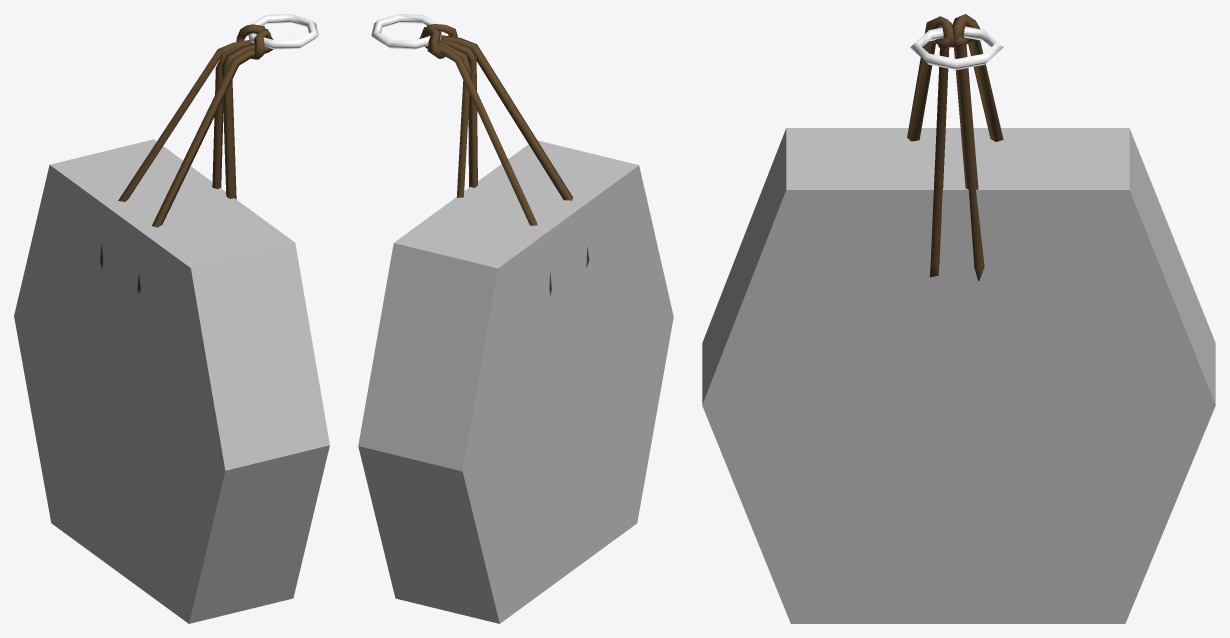
The model's file is SM_H_Props_Industrial_NavalBattle_S2_Wharf_09a_ATLAS.fbx.
3 renders of one model, left to right at view 1: azimuth 30°, elevation 25°; view 2: azimuth 150°, elevation 25°; view 3: azimuth 270°, elevation 25°, orthographic. The views are drawn at different scales.
Parts seen in each view (by area): view 1: SM_H_Props_Industrial_NavalBattle_S2_Wharf_09a_ATLAS_ConvexH, SM_H_Props_Industrial_NavalBattle_S2_Wharf_09a_ATLAS; view 2: SM_H_Props_Industrial_NavalBattle_S2_Wharf_09a_ATLAS_ConvexH, SM_H_Props_Industrial_NavalBattle_S2_Wharf_09a_ATLAS; view 3: SM_H_Props_Industrial_NavalBattle_S2_Wharf_09a_ATLAS_ConvexH, SM_H_Props_Industrial_NavalBattle_S2_Wharf_09a_ATLAS.
Boxes of the visible parts, x1=… form: SM_H_Props_Industrial_NavalBattle_S2_Wharf_09a_ATLAS_ConvexH: x1=14, y1=139, x2=329, y2=623; SM_H_Props_Industrial_NavalBattle_S2_Wharf_09a_ATLAS: x1=100, y1=14, x2=318, y2=293; SM_H_Props_Industrial_NavalBattle_S2_Wharf_09a_ATLAS_ConvexH: x1=358, y1=140, x2=673, y2=623; SM_H_Props_Industrial_NavalBattle_S2_Wharf_09a_ATLAS: x1=371, y1=14, x2=589, y2=295; SM_H_Props_Industrial_NavalBattle_S2_Wharf_09a_ATLAS_ConvexH: x1=702, y1=128, x2=1215, y2=623; SM_H_Props_Industrial_NavalBattle_S2_Wharf_09a_ATLAS: x1=907, y1=14, x2=1003, y2=281.
Bounding box in the file's own units: 62.87 × 117 × 157.
